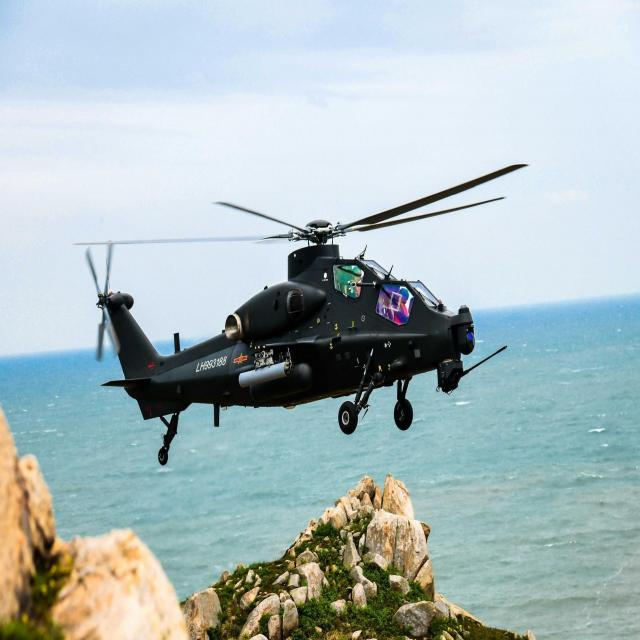MIL_HELO: (51, 160, 530, 464)
